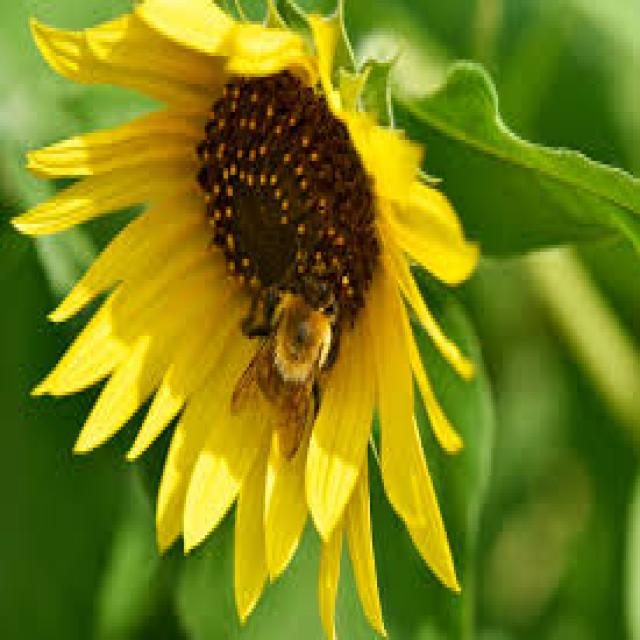sunflower: (5, 9, 496, 640)
